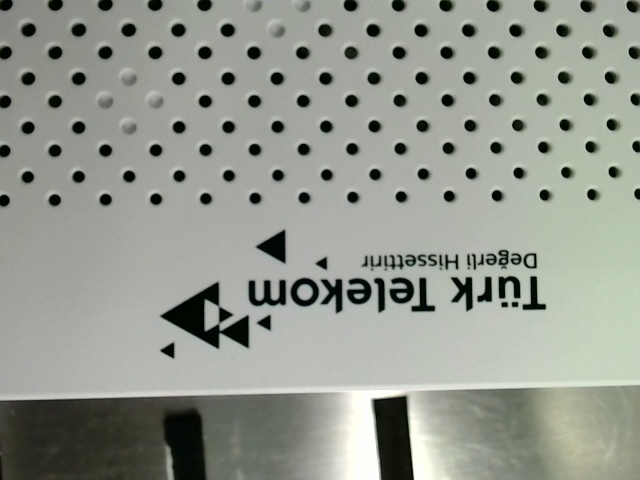AQ_TURKTelekom: (158, 220, 547, 360)
